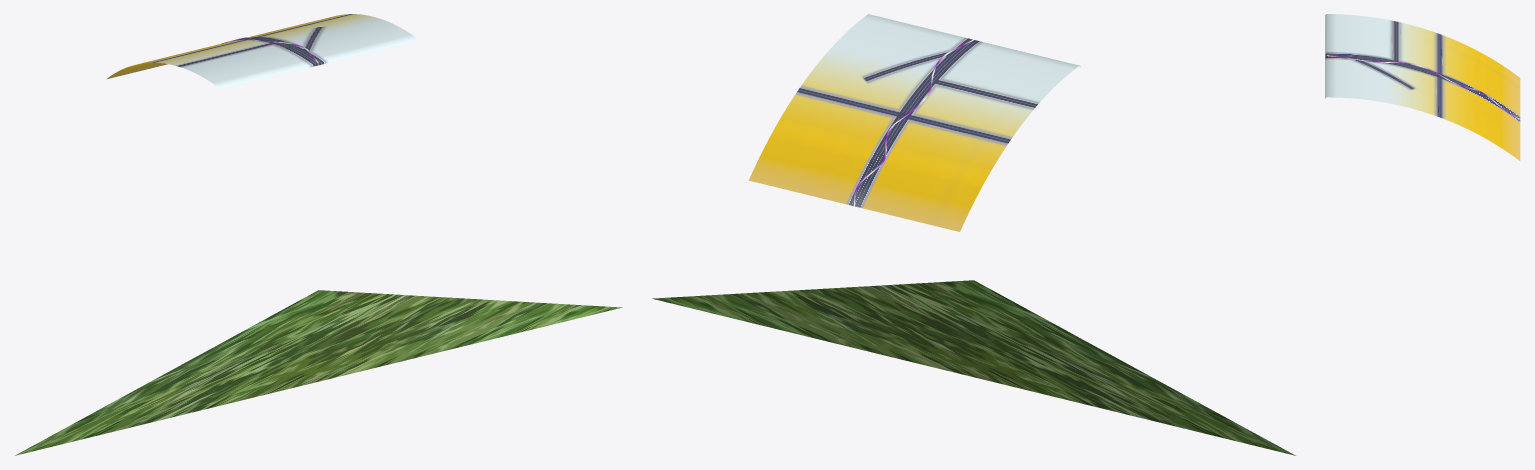
3 renders of one model, left to right at view 1: azimuth 30°, elevation 25°; view 2: azimuth 150°, elevation 25°; view 3: azimuth 270°, elevation 25°, orthographic. The views are drawn at different scales.
Visible parts, largest first — view 1: Obj, LocNY1; view 2: LocNY1, Obj; view 3: LocNY1, WireNY1.
Part boxes in pixels (x1,y1,x2,y2): Obj: [15, 290, 622, 455]; LocNY1: [106, 14, 418, 89]; LocNY1: [748, 14, 1080, 231]; Obj: [652, 280, 1295, 455]; LocNY1: [1325, 14, 1520, 160]; WireNY1: [1326, 55, 1520, 119].
Size of the model in its own units: 200 by 100 by 64.77.
